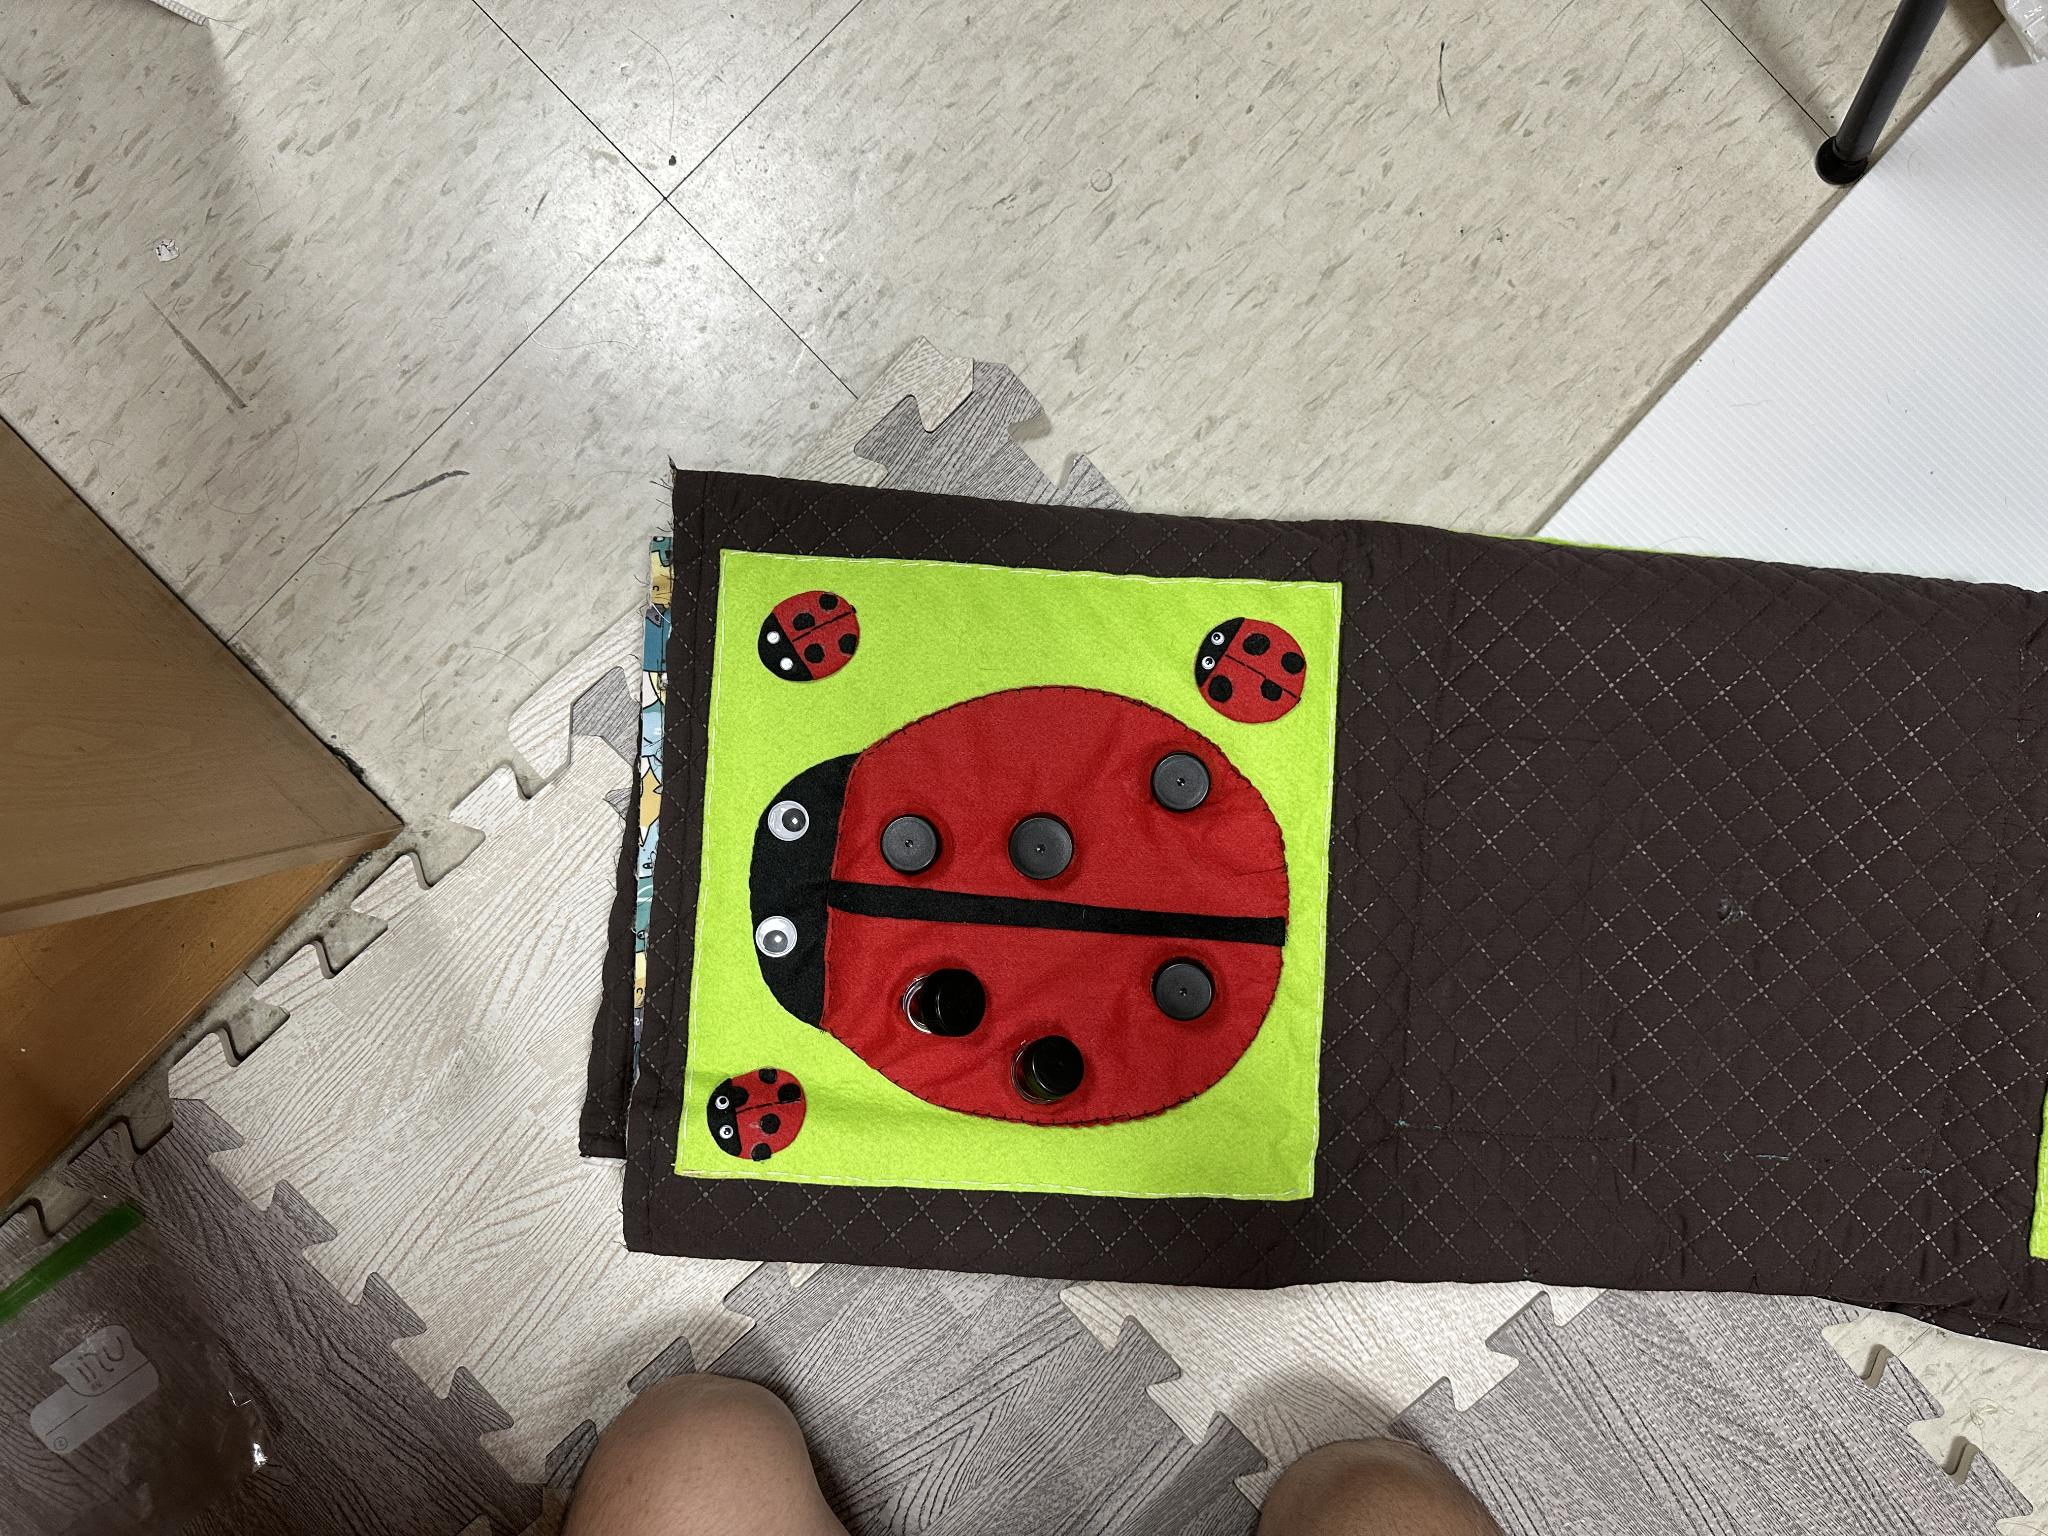cap_ng: (887, 949, 998, 1050), (1006, 1020, 1090, 1113)
cap_ok: (984, 792, 1098, 894), (1134, 733, 1224, 829), (1140, 941, 1224, 1036), (874, 803, 953, 883)
